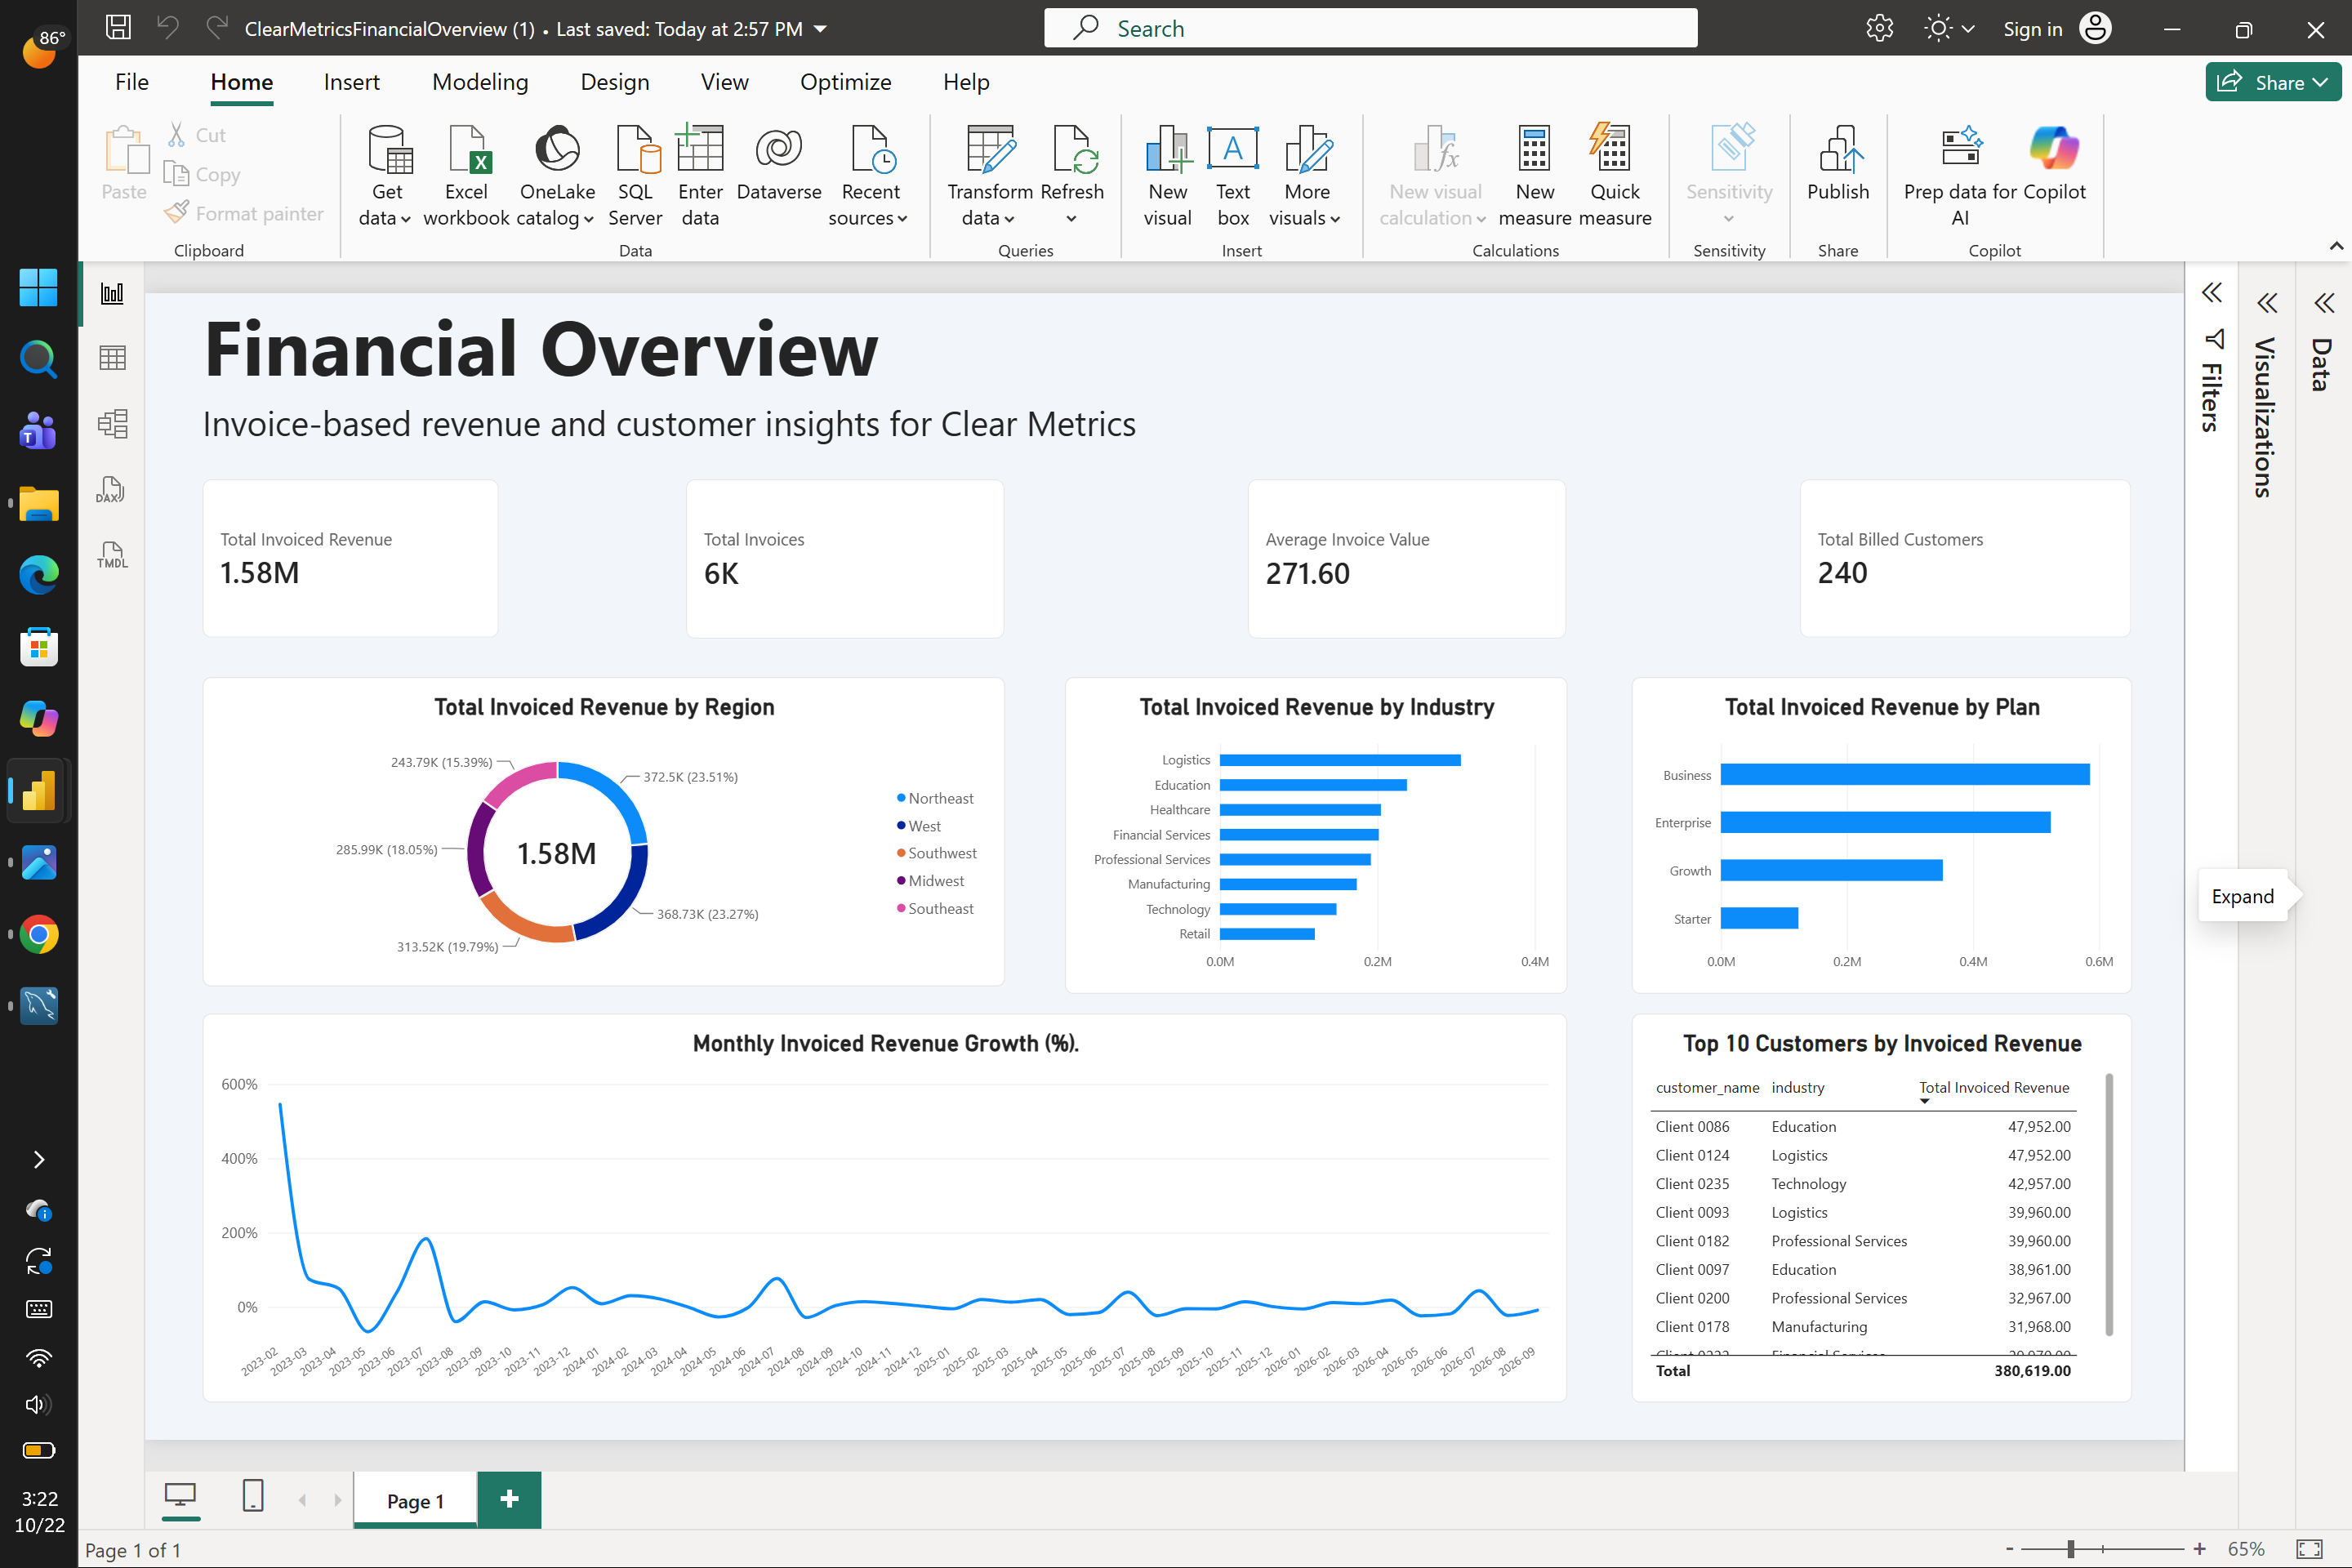

Layout of this report page (visuals, bound fields, positions):
{"tool":"powerbi","page":{"name":"Page 1","canvas":[1920,1080],"ordinal":0},"visuals":[{"type":"cardVisual","fields":{"Data":["DAXMeasures.Total Invoiced Revenue"]},"box":[53.7,175,280,149.3],"z":0},{"type":"cardVisual","fields":{"Data":["DAXMeasures.Total Billed Customers"]},"box":[1558.4,175,312.6,149.3],"z":1000},{"type":"cardVisual","fields":{"Data":["DAXMeasures.Total Invoices"]},"box":[508.6,175,300,150],"z":2000},{"type":"cardVisual","fields":{"Data":["DAXMeasures.Average Invoice Value"]},"box":[1038.2,175,300,150],"z":3000},{"type":"lineChart","title":"Monthly Invoiced Revenue Growth (%).","fields":{"Category":["Calendar.YearMonth"],"Y":["DAXMeasures.MoM Revenue Growth %"]},"box":[53.7,678.9,1285.4,366.3],"z":4000},{"type":"clusteredBarChart","title":"Total Invoiced Revenue by Plan","fields":{"Category":["clearmetrics_star dim_plan.plan_name"],"Y":["DAXMeasures.Total Invoiced Revenue"]},"box":[1399.8,361.6,471.3,298.6],"z":5000},{"type":"clusteredBarChart","title":"Total Invoiced Revenue by Industry","fields":{"Category":["clearmetrics_star dim_customer.industry"],"Y":["DAXMeasures.Total Invoiced Revenue"]},"box":[865.5,361.6,473.6,298.6],"z":6000},{"type":"donutChart","title":"Total Invoiced Revenue by Region","fields":{"Category":["clearmetrics_star dim_customer.region"],"Y":["DAXMeasures.Total Invoiced Revenue"]},"box":[53.7,361.6,755.9,291.6],"z":7000},{"type":"tableEx","title":"Top 10 Customers by Invoiced Revenue","fields":{"Values":["clearmetrics_star dim_customer.customer_name","clearmetrics_star dim_customer.industry","DAXMeasures.Total Invoiced Revenue"]},"box":[1399.8,678.9,471.3,366.3],"z":8000},{"type":"textbox","box":[53.7,0,1185.1,144.6],"z":9000},{"type":"textbox","box":[53.7,100.3,907.5,149.3],"z":10000}]}

Visuals, with their boxes on the page's 1920x1080 design canvas (x1, y1, x2, y2). These are canvas units, not pixel positions in the 2352x1568 screenshot, which may show the page scaled, cropped or inside an application window:
cardVisual - DAXMeasures.Total Invoiced Revenue: x1=54 y1=175 x2=334 y2=324
cardVisual - DAXMeasures.Total Billed Customers: x1=1558 y1=175 x2=1871 y2=324
cardVisual - DAXMeasures.Total Invoices: x1=509 y1=175 x2=809 y2=325
cardVisual - DAXMeasures.Average Invoice Value: x1=1038 y1=175 x2=1338 y2=325
"Monthly Invoiced Revenue Growth (%)." lineChart: x1=54 y1=679 x2=1339 y2=1045
"Total Invoiced Revenue by Plan" clusteredBarChart: x1=1400 y1=362 x2=1871 y2=660
"Total Invoiced Revenue by Industry" clusteredBarChart: x1=866 y1=362 x2=1339 y2=660
"Total Invoiced Revenue by Region" donutChart: x1=54 y1=362 x2=810 y2=653
"Top 10 Customers by Invoiced Revenue" tableEx: x1=1400 y1=679 x2=1871 y2=1045
textbox: x1=54 y1=0 x2=1239 y2=145
textbox: x1=54 y1=100 x2=961 y2=250
